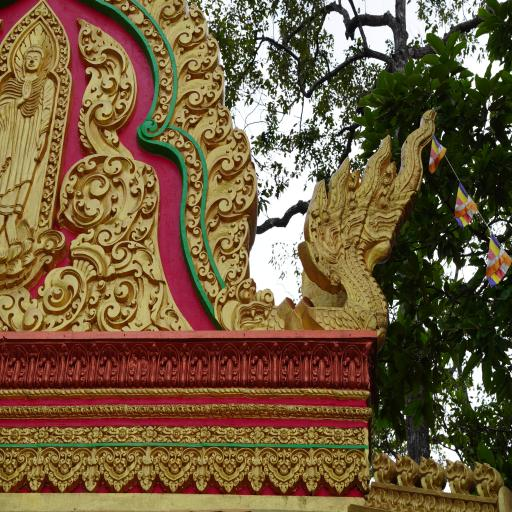hoa: (34, 425, 52, 443), (59, 426, 76, 443), (141, 426, 158, 442), (87, 426, 102, 444), (276, 426, 290, 445), (116, 425, 130, 444), (303, 428, 319, 444), (196, 424, 210, 442), (330, 427, 345, 443), (169, 426, 184, 442), (250, 427, 264, 444), (224, 425, 236, 444), (8, 427, 20, 444)
la: (72, 13, 138, 156), (58, 151, 156, 237), (105, 244, 163, 329), (39, 255, 100, 334), (211, 448, 276, 496), (206, 156, 255, 218), (204, 112, 252, 174), (102, 447, 168, 491), (44, 448, 113, 490), (266, 448, 325, 497), (0, 448, 59, 493), (155, 448, 214, 492), (176, 22, 222, 76), (320, 450, 369, 497), (167, 0, 210, 53), (212, 196, 249, 257), (1, 279, 45, 330), (233, 268, 275, 320), (191, 99, 232, 148), (179, 62, 222, 106), (239, 339, 271, 389), (214, 247, 256, 285), (270, 340, 302, 388), (300, 341, 332, 389), (179, 340, 210, 388), (88, 342, 120, 388), (208, 341, 240, 387), (332, 341, 362, 390), (149, 340, 179, 386), (26, 344, 58, 386), (120, 341, 149, 387), (58, 344, 88, 387), (1, 342, 28, 389), (442, 458, 474, 496), (474, 460, 502, 500), (417, 458, 444, 490), (372, 450, 396, 486), (395, 454, 420, 488), (151, 0, 185, 24), (185, 204, 203, 232), (187, 227, 204, 256), (202, 268, 218, 298), (186, 158, 204, 184), (195, 244, 208, 278), (187, 180, 203, 206), (168, 126, 184, 150), (142, 17, 160, 38), (185, 139, 198, 165), (160, 70, 175, 88), (156, 47, 170, 66), (156, 103, 170, 122), (113, 0, 129, 16), (150, 32, 164, 50), (160, 86, 174, 103), (129, 8, 142, 26), (182, 431, 200, 444), (345, 434, 362, 445), (345, 426, 359, 438), (0, 427, 9, 445), (22, 426, 38, 436), (208, 424, 224, 434), (100, 433, 117, 442), (291, 436, 308, 445), (100, 426, 118, 434), (182, 427, 200, 435), (129, 426, 143, 436), (208, 434, 222, 444), (262, 425, 276, 435), (316, 426, 330, 436), (159, 128, 167, 145), (20, 437, 37, 445), (154, 434, 170, 442), (292, 426, 306, 435), (50, 426, 62, 436), (76, 434, 88, 444), (129, 434, 144, 442), (155, 428, 170, 436), (237, 428, 253, 435), (76, 426, 88, 435), (48, 436, 61, 444), (240, 433, 250, 443), (264, 435, 276, 443), (318, 436, 330, 444)
ran: (297, 56, 443, 334)
than: (0, 14, 57, 275)
